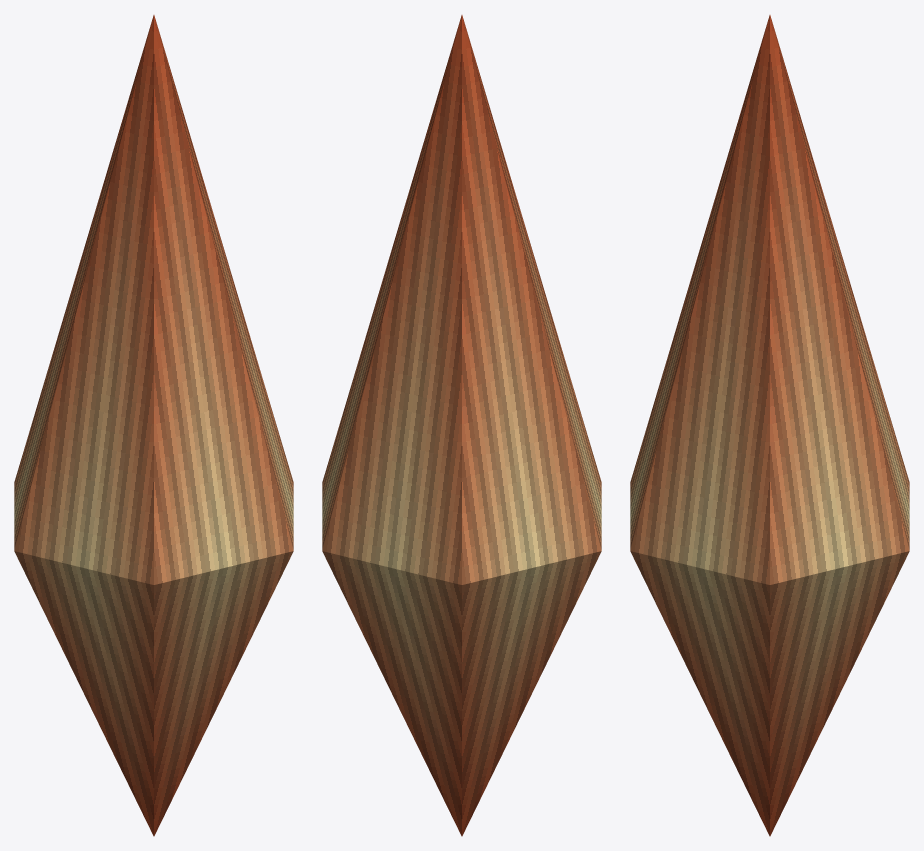
The model's file is ember_crystal.glb.
The picture shows the model from 3 angles, left to right: view 1: azimuth 30°, elevation 25°; view 2: azimuth 150°, elevation 25°; view 3: azimuth 270°, elevation 25°; orthographic projection.
Visible parts, largest first — view 1: ember_crystal; view 2: ember_crystal; view 3: ember_crystal.
Part boxes in pixels (box(x1,y1,x2,y2)): ember_crystal: box(14, 15, 293, 836); ember_crystal: box(322, 15, 601, 836); ember_crystal: box(630, 15, 909, 836).
Size of the model in its own units: 0.32 by 0.9 by 0.2771.
1 material, 1 textured.
